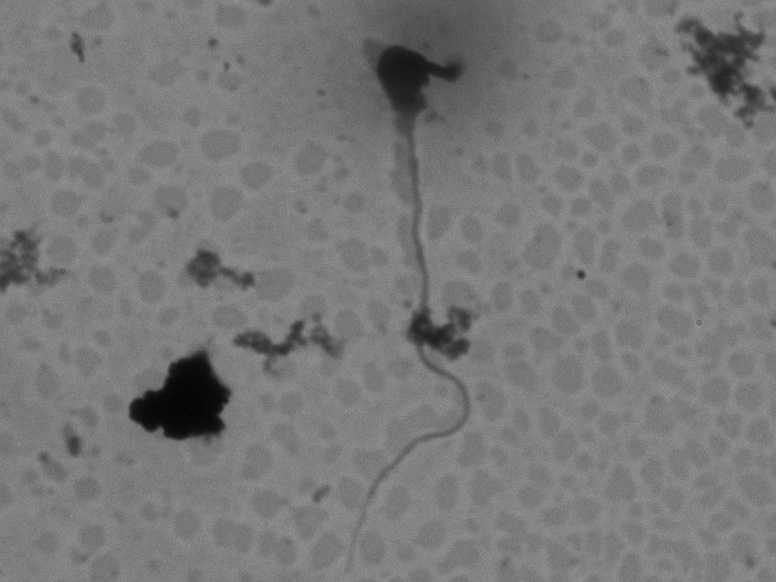Abnormal: (277, 43, 504, 575)
